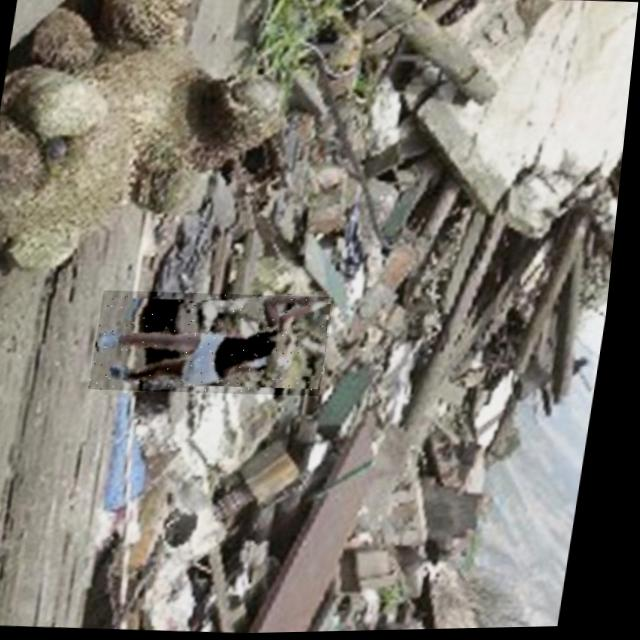Person in Rubble: (95, 287, 341, 402)
